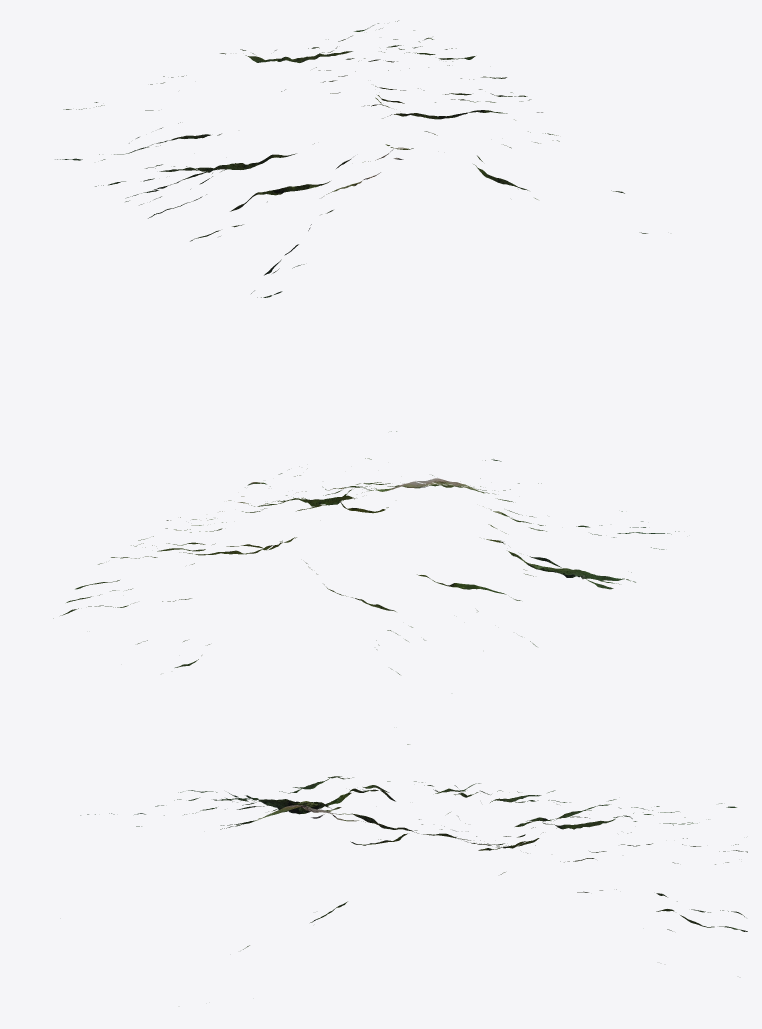
File: canlaon.glb
3 views of the same model, one above another, from view 1: azimuth 30°, elevation 25°; view 2: azimuth 150°, elevation 25°; view 3: azimuth 270°, elevation 25° (orthographic). The views are drawn at different scales.
Visible parts, largest first — view 1: dem-rgb-13/6897/3857, dem-rgb-13/6898/3857, dem-rgb-13/6898/3856; view 2: dem-rgb-13/6897/3857, dem-rgb-13/6898/3857, dem-rgb-13/6898/3856; view 3: dem-rgb-13/6897/3857, dem-rgb-13/6897/3856.
Boxes of the visible parts, x1=… form: dem-rgb-13/6897/3857: x1=139, y1=143, x2=403, y2=275; dem-rgb-13/6898/3857: x1=363, y1=92, x2=624, y2=199; dem-rgb-13/6898/3856: x1=220, y1=20, x2=506, y2=93; dem-rgb-13/6897/3857: x1=386, y1=478, x2=630, y2=646; dem-rgb-13/6898/3857: x1=134, y1=481, x2=434, y2=550; dem-rgb-13/6898/3856: x1=53, y1=545, x2=311, y2=667; dem-rgb-13/6897/3857: x1=258, y1=776, x2=503, y2=845; dem-rgb-13/6897/3856: x1=503, y1=790, x2=747, y2=864.
Size of the model in its own units: 1.13 by 0.244 by 1.7.
6 materials, 6 textured.
